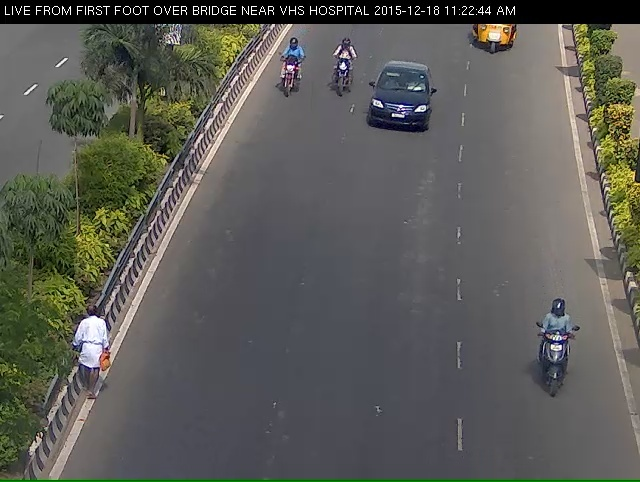Car: (360, 63, 434, 145), (469, 23, 518, 66)
Person: (535, 321, 583, 428), (70, 300, 116, 399), (320, 41, 355, 105), (268, 43, 300, 103)
